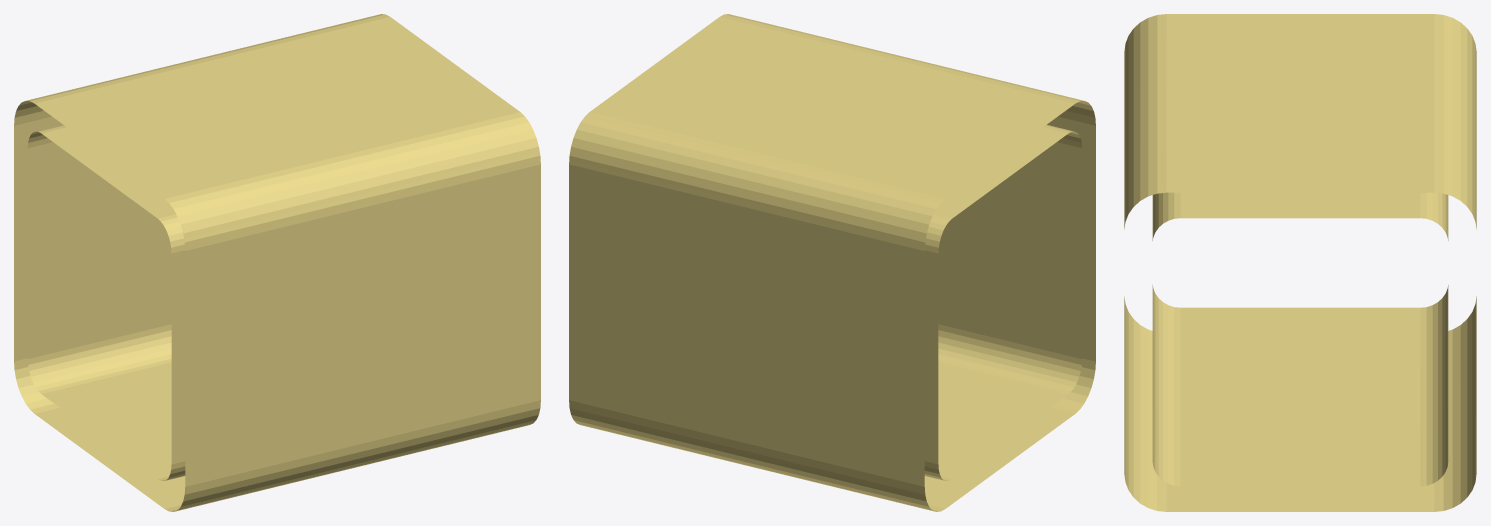
The model's file is RailLeft_08.obj.
3 views of the same model, side by side, from view 1: azimuth 30°, elevation 25°; view 2: azimuth 150°, elevation 25°; view 3: azimuth 270°, elevation 25° (orthographic). The views are drawn at different scales.
Visible parts, largest first — view 1: RailLeft_08_14; view 2: RailLeft_08_14; view 3: RailLeft_08_14.
Part boxes in pixels (x1=…): RailLeft_08_14: x1=14, y1=14, x2=540, y2=511; RailLeft_08_14: x1=569, y1=14, x2=1095, y2=511; RailLeft_08_14: x1=1124, y1=14, x2=1476, y2=511.
Size of the model in its own units: 0.03 by 0.025 by 0.025.
